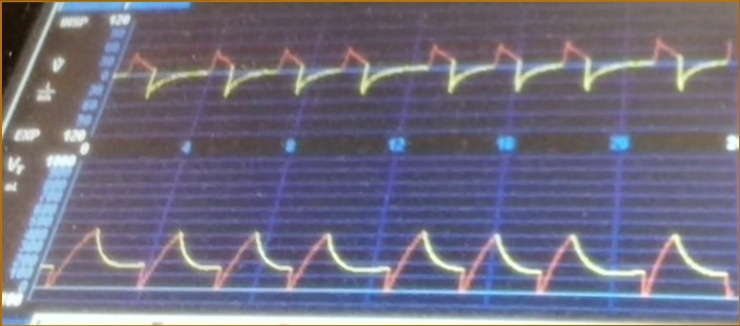Flow: (127, 29, 738, 128)
Leakage Volume: (62, 201, 732, 311)
